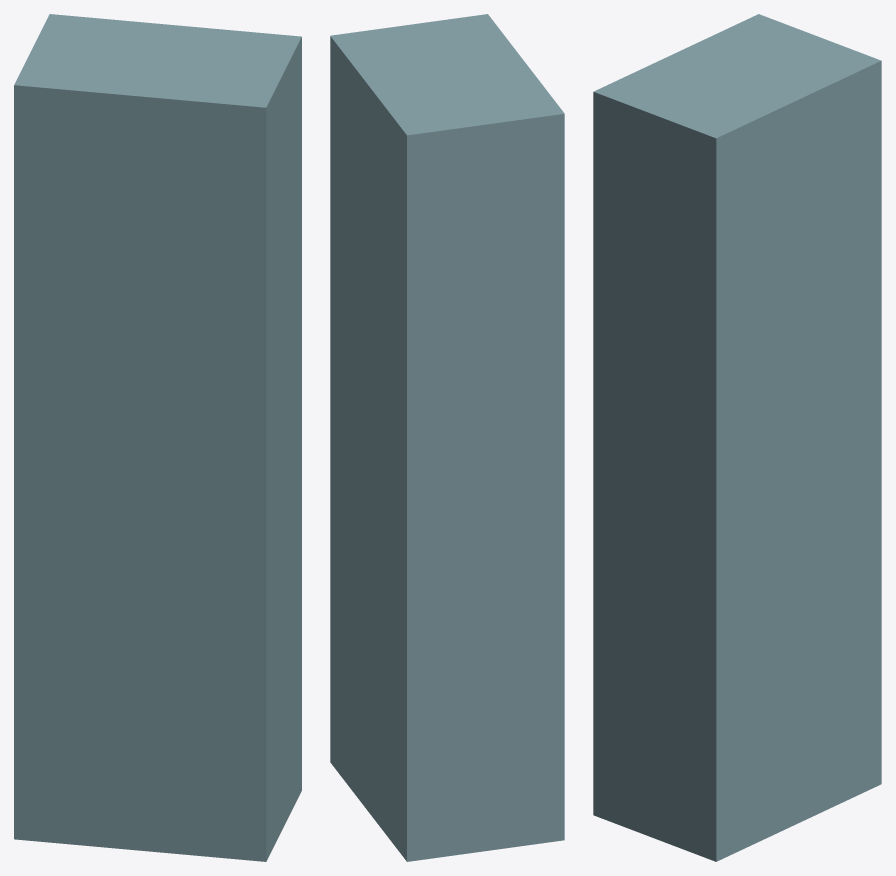
Rendered from city_2_-5.glb.
The picture shows the model from 3 angles, left to right: view 1: azimuth 30°, elevation 25°; view 2: azimuth 150°, elevation 25°; view 3: azimuth 270°, elevation 25°; orthographic projection. The views are drawn at different scales.
Visible parts, largest first — view 1: city_2_-5; view 2: city_2_-5; view 3: city_2_-5.
Part boxes in pixels (x1,y1,x2,y2): city_2_-5: [14, 14, 301, 861]; city_2_-5: [330, 14, 564, 861]; city_2_-5: [593, 14, 881, 861].
Size of the model in its own units: 43.88 by 119 by 42.96.
